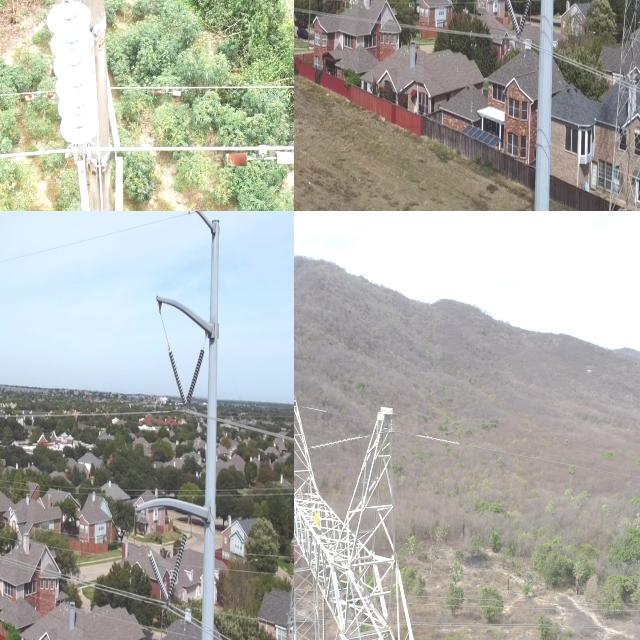杆塔: (294, 381, 447, 640), (20, 0, 148, 211), (604, 0, 640, 211)
正常电缆: (294, 0, 509, 43), (525, 33, 609, 90)
正常绝缘子: (33, 0, 108, 155), (166, 533, 189, 602), (167, 346, 189, 409), (184, 348, 206, 409), (147, 548, 170, 603), (502, 0, 534, 39), (318, 576, 329, 640), (288, 540, 294, 583), (283, 625, 290, 640), (291, 458, 294, 490)
绝缘子破损: (58, 0, 76, 8)
